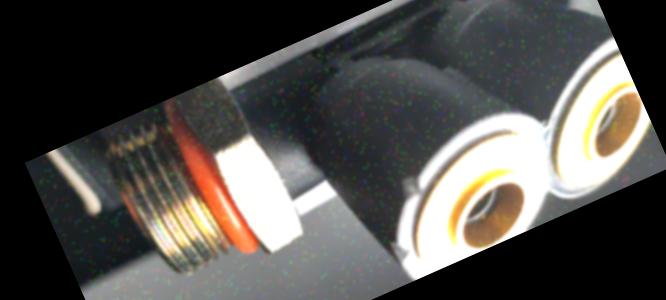bump: (387, 165, 433, 211), (379, 228, 419, 273)
joint line: (286, 155, 317, 176)
white mark: (277, 173, 291, 188)
